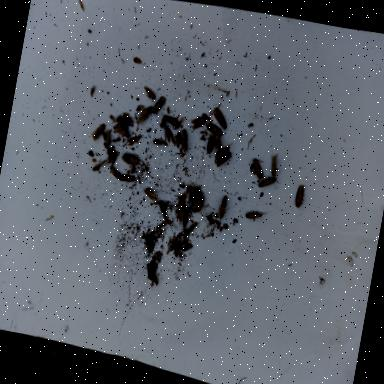pbw: (214, 140, 234, 166), (246, 158, 266, 184), (144, 263, 162, 287), (212, 110, 230, 131), (176, 195, 190, 222), (202, 122, 225, 138), (178, 128, 192, 154), (183, 220, 198, 243), (90, 123, 106, 143), (136, 106, 152, 126), (268, 154, 282, 176), (246, 208, 268, 222), (157, 200, 171, 222), (112, 124, 131, 140), (184, 185, 198, 206), (217, 195, 229, 219), (212, 136, 226, 156), (190, 115, 207, 131), (295, 185, 306, 209), (142, 85, 158, 101), (144, 188, 160, 204), (126, 132, 142, 148), (92, 157, 107, 174), (258, 176, 276, 190), (162, 126, 176, 144), (121, 153, 139, 167), (162, 115, 180, 128), (206, 133, 216, 155), (101, 130, 112, 150), (108, 167, 122, 182), (152, 95, 162, 115), (152, 138, 170, 148), (119, 174, 136, 184), (108, 150, 118, 166), (116, 116, 133, 125), (174, 130, 182, 147), (159, 114, 166, 129)
